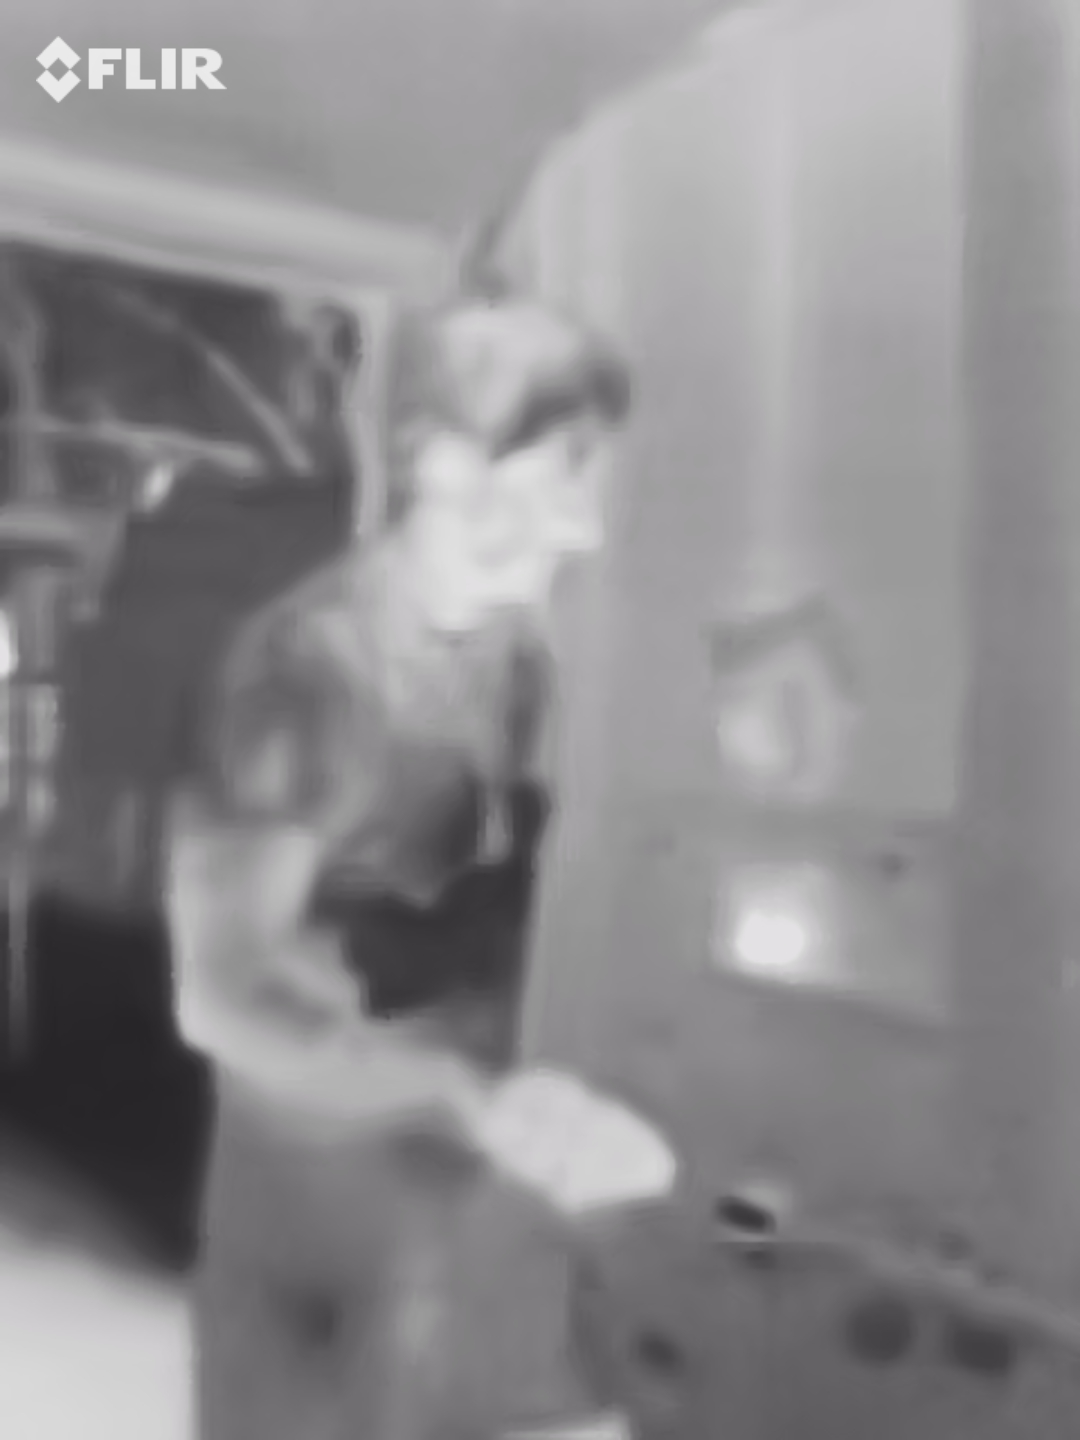head: (385, 297, 632, 634)
